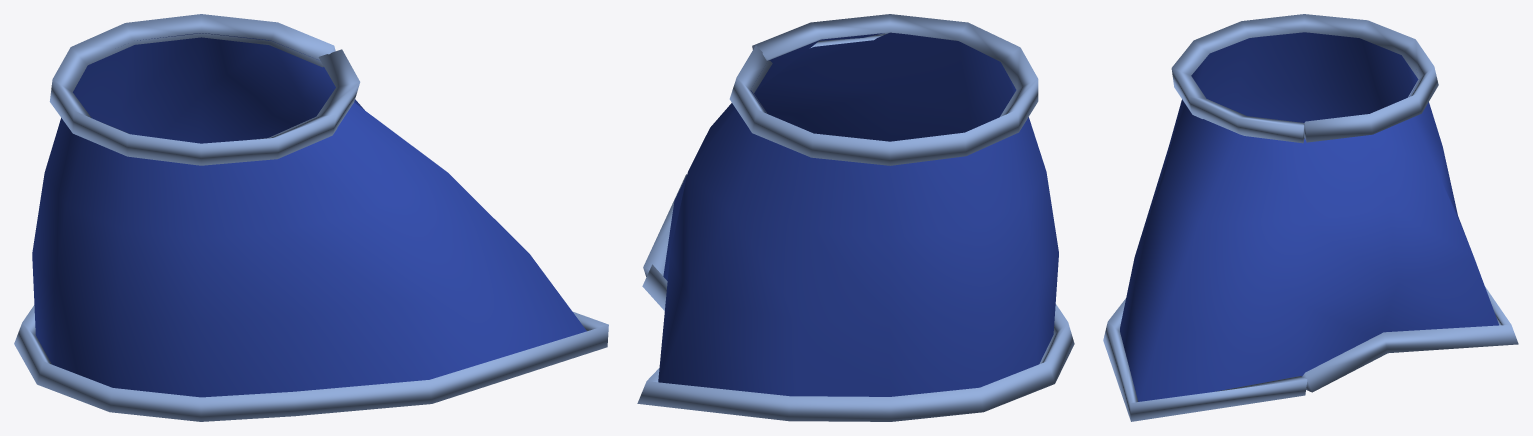
File: stardust_armor_pauldron.L.glb
The picture shows the model from 3 angles, left to right: view 1: azimuth 30°, elevation 25°; view 2: azimuth 150°, elevation 25°; view 3: azimuth 270°, elevation 25°; orthographic projection. The views are drawn at different scales.
Visible parts, largest first — view 1: stardust_armor_pauldron.L; view 2: stardust_armor_pauldron.L; view 3: stardust_armor_pauldron.L.
Part boxes in pixels (bbox=[...]): stardust_armor_pauldron.L: bbox=[14, 14, 608, 421]; stardust_armor_pauldron.L: bbox=[637, 14, 1074, 421]; stardust_armor_pauldron.L: bbox=[1103, 14, 1518, 421].
Size of the model in its own units: 0.3 by 0.1646 by 0.2694.
